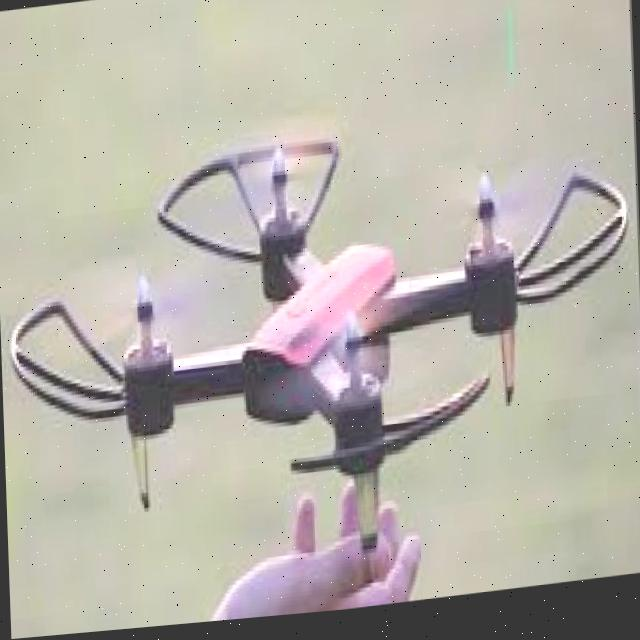drone: (0, 79, 640, 601)
